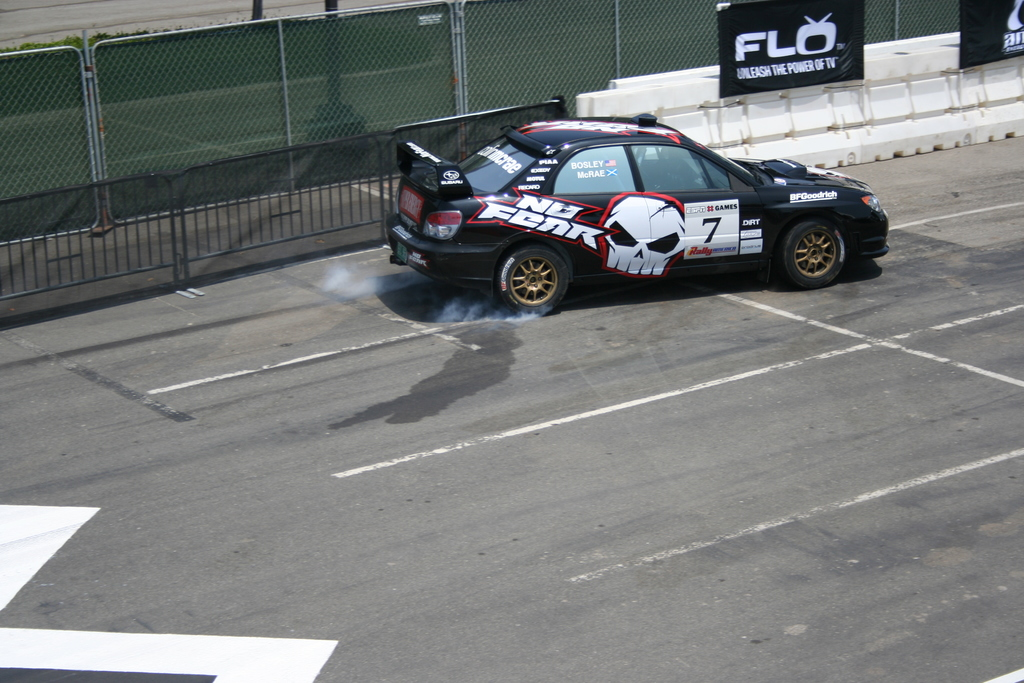Car: (376, 110, 879, 308)
